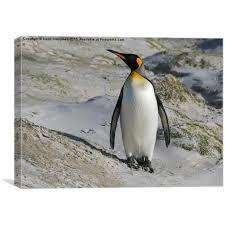king: (93, 42, 188, 181)
